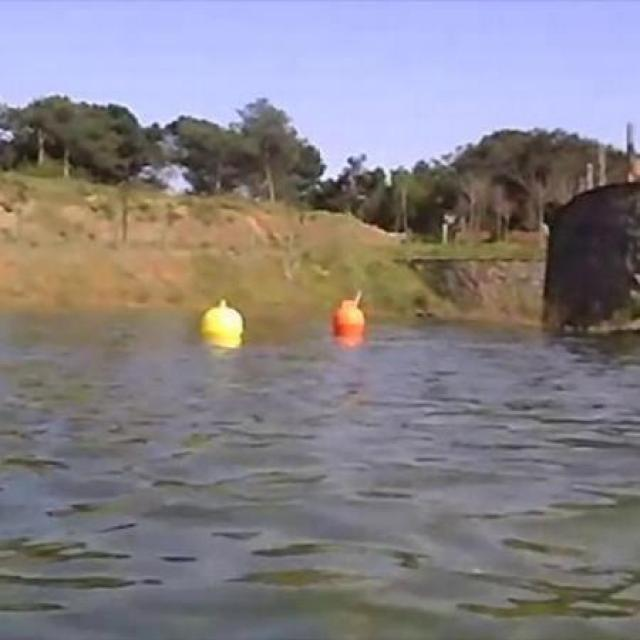buoy: (200, 308, 249, 346), (338, 296, 368, 338)
